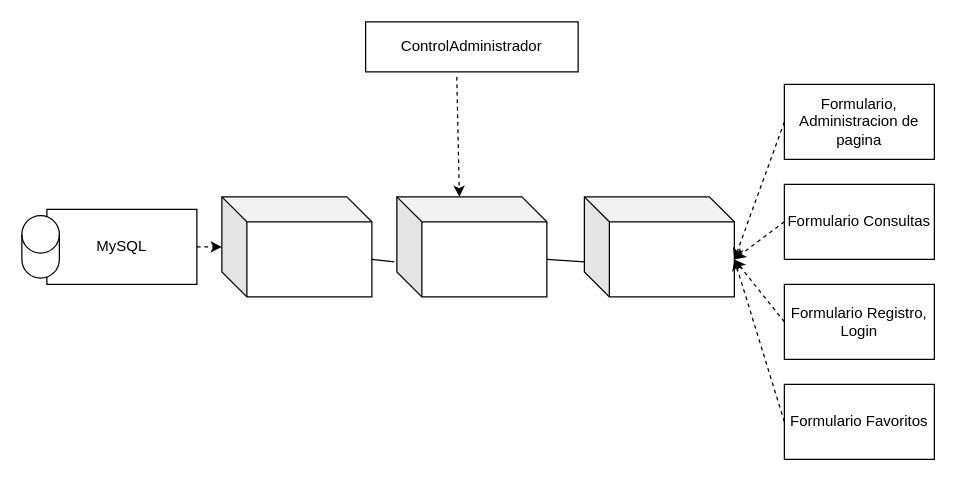
This 956x481 diagram has some shape labels left out. Here are the shapes that lost their labels. From the top down, the box of each, then its label:
(221, 196, 372, 297): Base de Datos
(396, 196, 547, 297): Controlador
(583, 196, 734, 297): Vista
